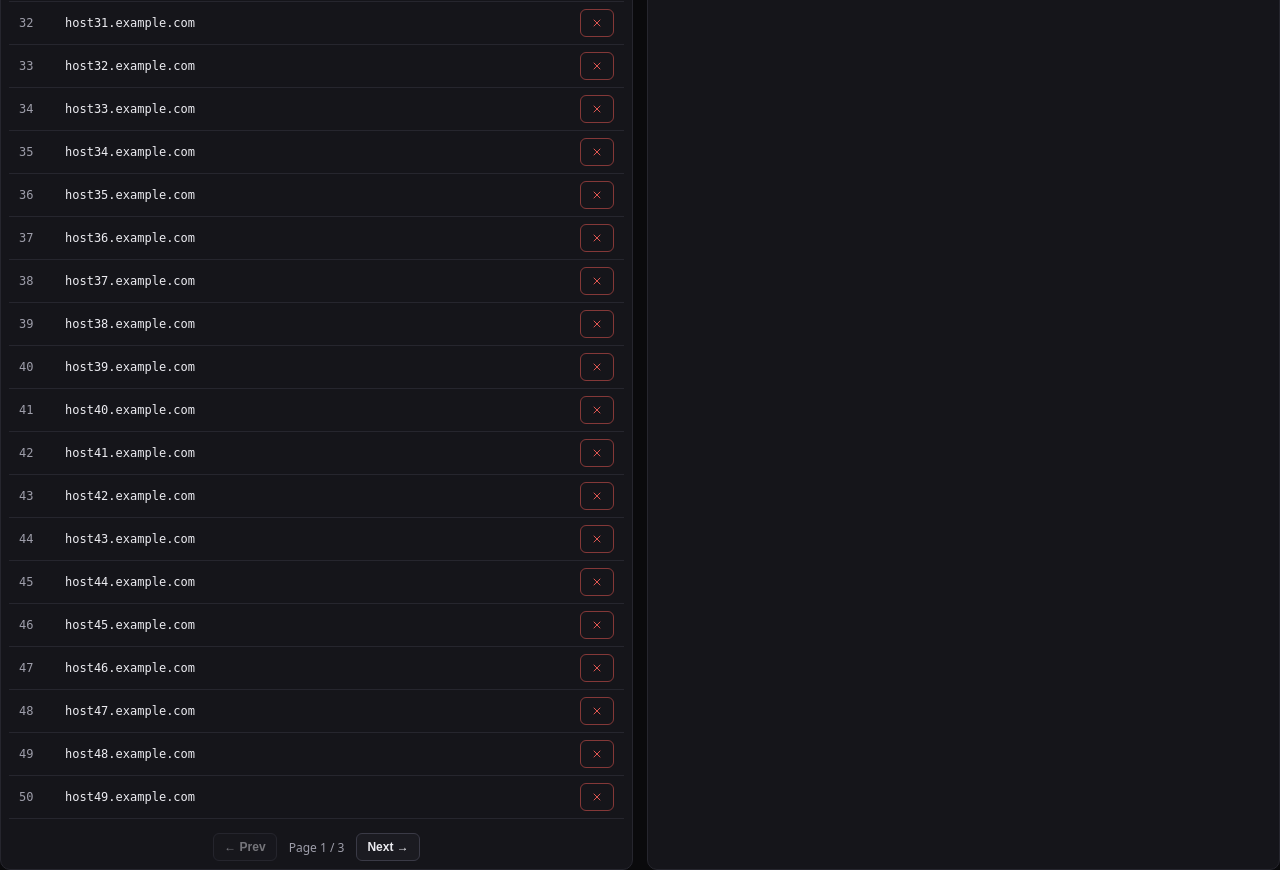
it: Lists › paginates the allow list 50 rows at a time
(page scrolled)
Expected: the text "Page 1 / 3" is shown, [289,838,344,856]
Expected: the text "host60.example.com" is not shown
Click the button "Next →". click: [388, 847]
box: [356,833,420,861]
(page scrolled)
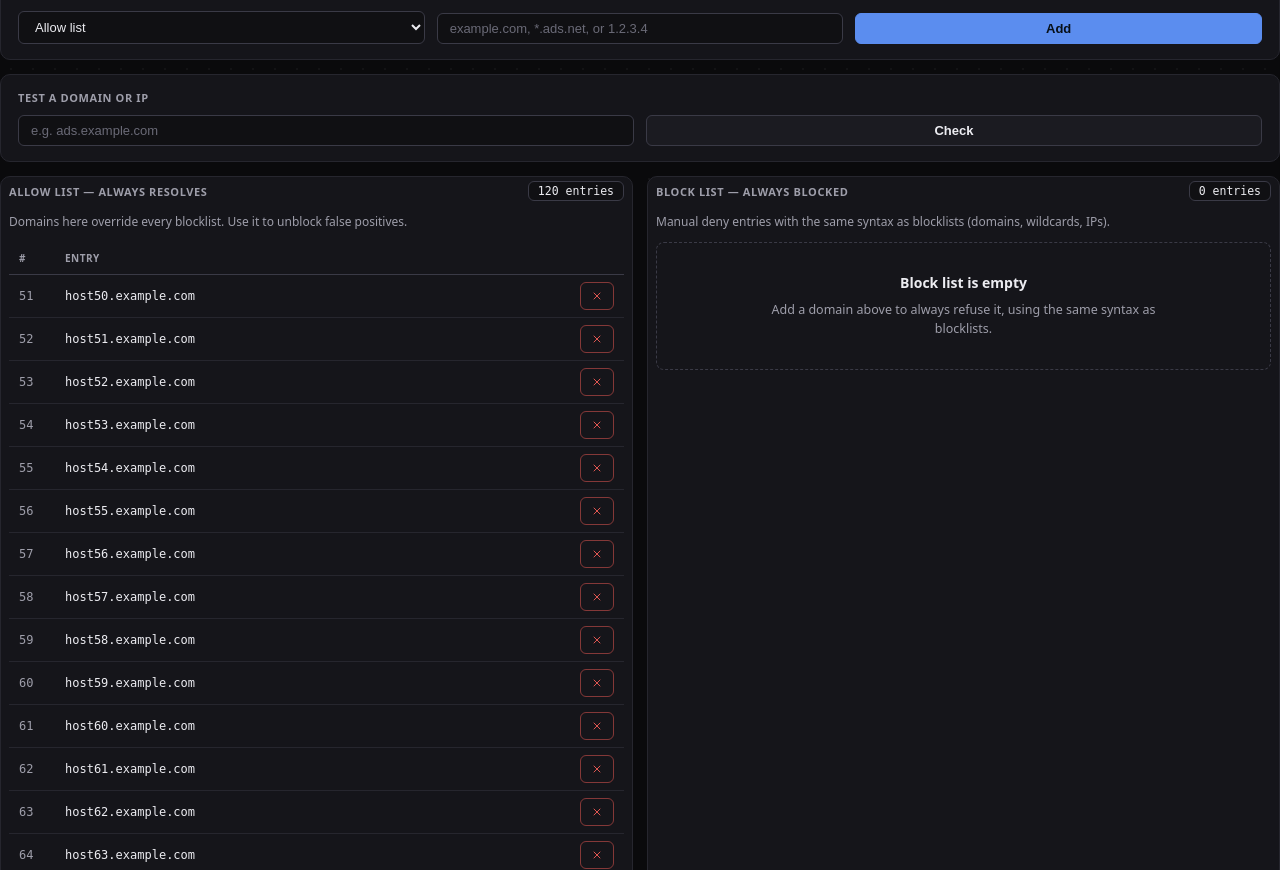
Expected: the text "host50.example.com" is shown, [55,274,570,318]
